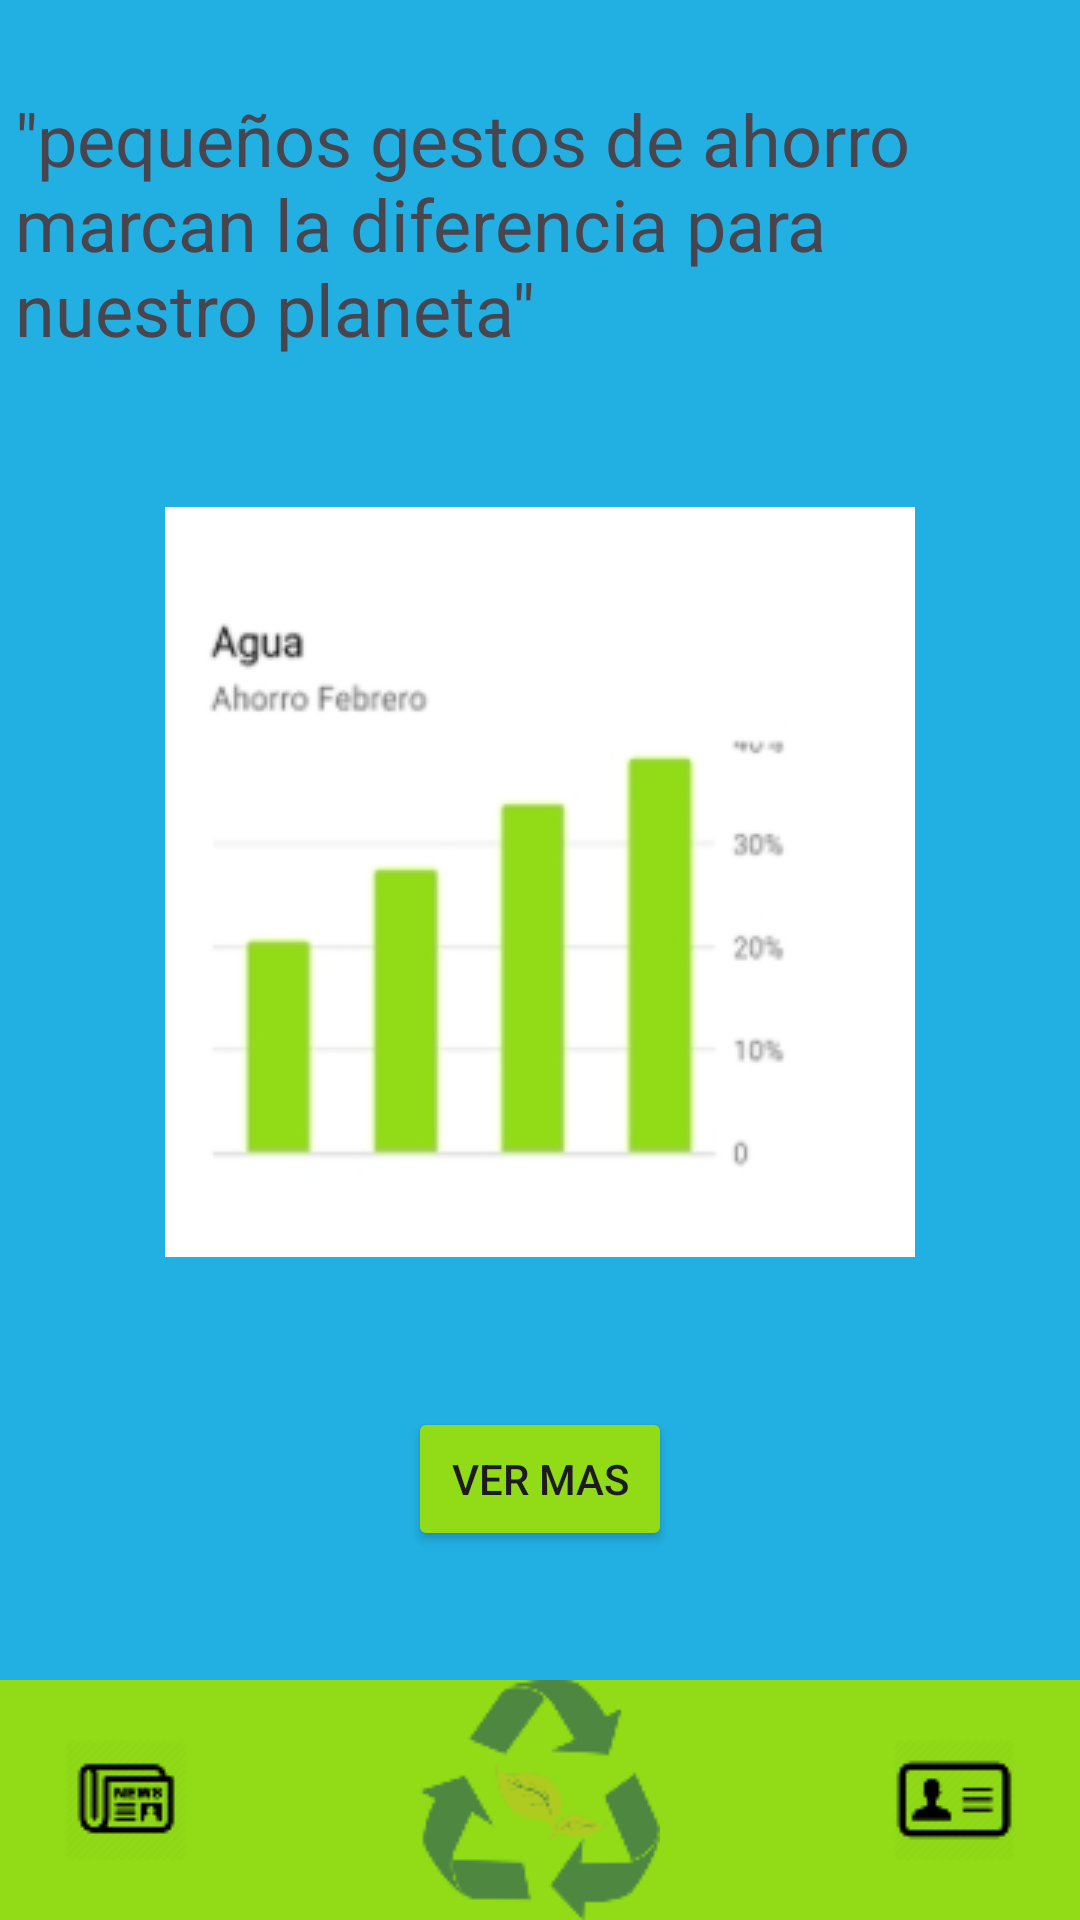

Locate icon controls on the screen. Image size 1080×1920, boxes as (x1, y1, x2, y2).
perfil: (896, 1760, 1012, 1840)
